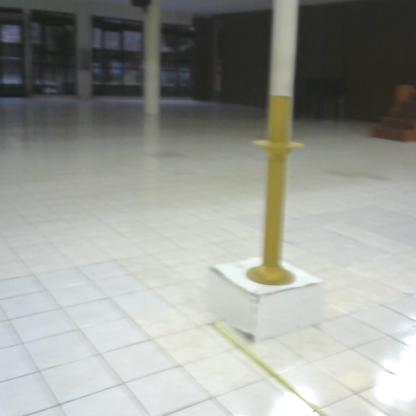pole: (245, 90, 310, 289)
